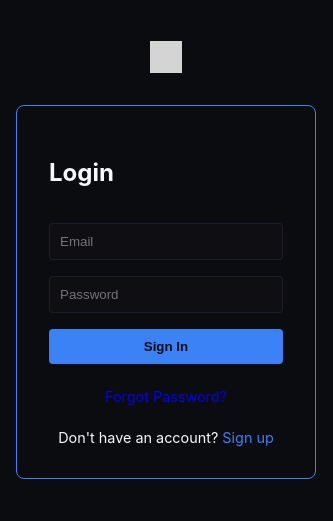
Test: LoginPage › shows MFA field when api returns mfa_required error
Type "mfa@bec-robotics.com" into the field with placeholder "Email".
click(166, 241); type("mfa@bec-robotics.com")  # box [49,223,283,260]
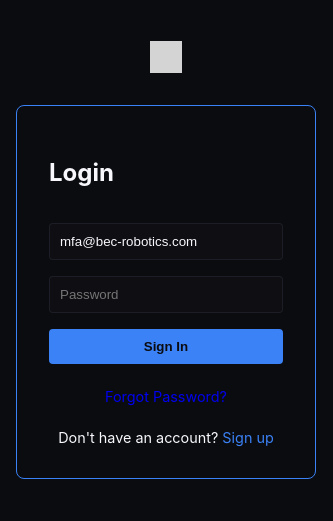
Type "ValidPass@99" into the password field with placeholder "Password".
click(166, 294); type("ValidPass@99")  # box [49,276,283,313]
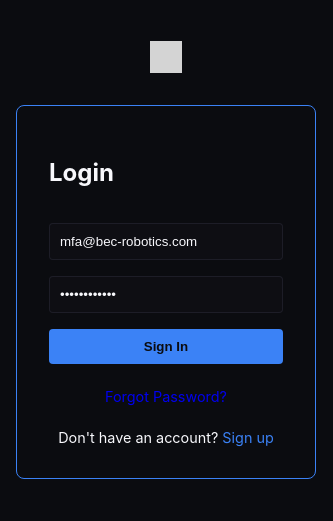
Click the button "Sign In".
click(166, 346)  # box [49,329,283,364]
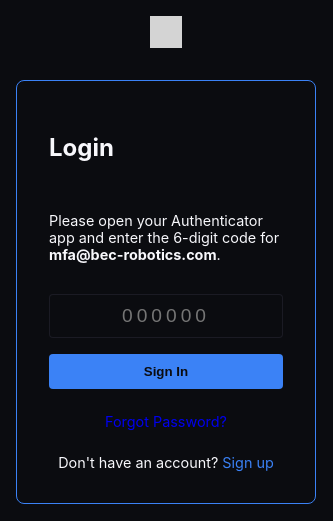
Result: the field with placeholder "000000" is shown at [49,294,283,338]
